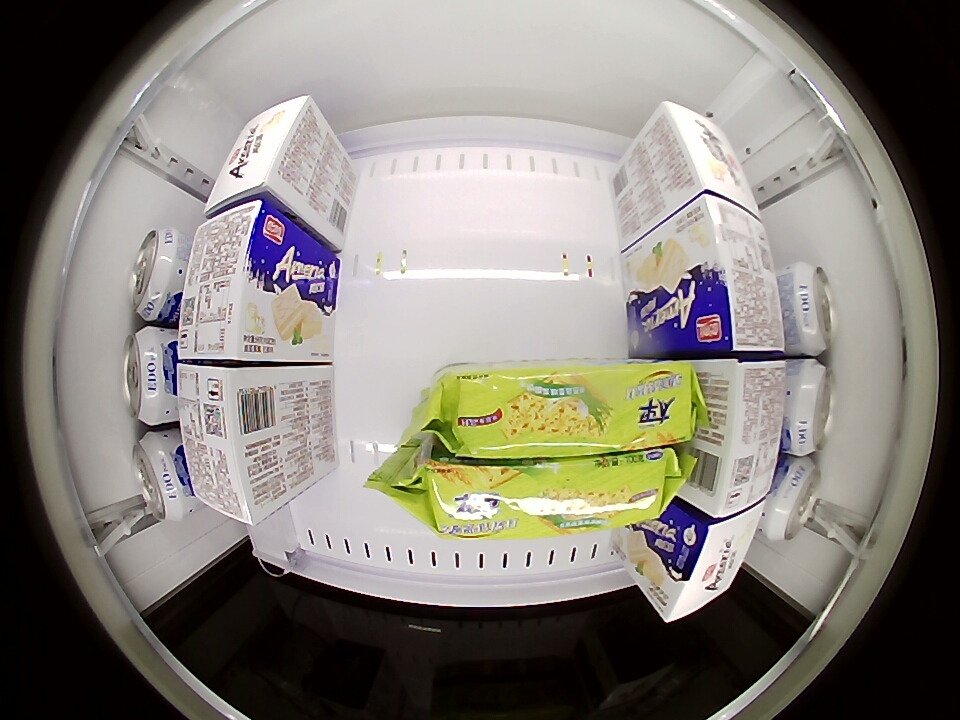meiniye: (177, 363, 299, 526), (178, 198, 298, 362), (667, 192, 785, 355), (689, 359, 787, 519), (205, 94, 323, 216), (650, 501, 765, 622), (650, 100, 761, 216)
rusuanjunqishui: (123, 326, 178, 426), (133, 430, 192, 523), (129, 227, 185, 324), (780, 262, 836, 357), (781, 358, 835, 456), (763, 456, 822, 543)
taipingshuda: (445, 360, 694, 457), (427, 451, 670, 540)
